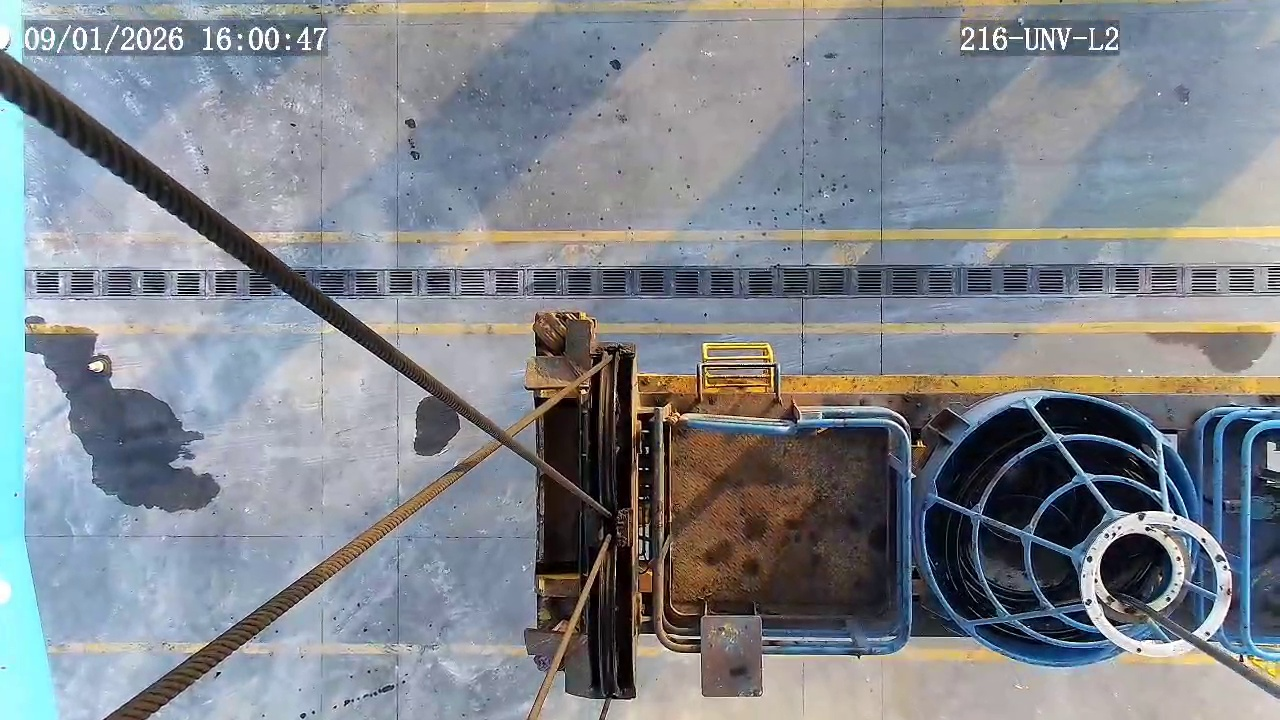left: (922, 395, 1202, 667)
